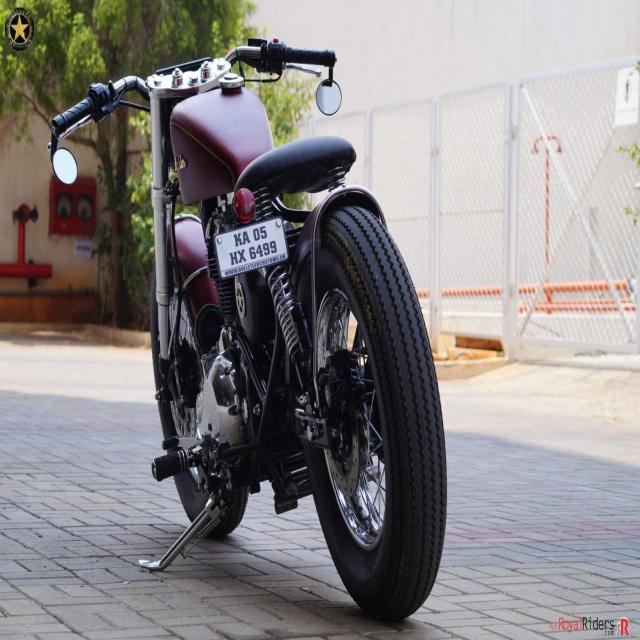number plate: (212, 216, 289, 278)
